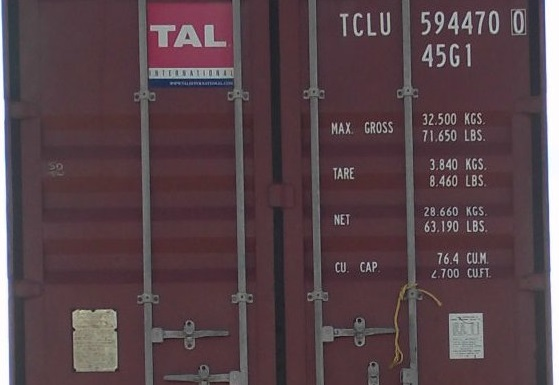container_door: (11, 6, 545, 383)
